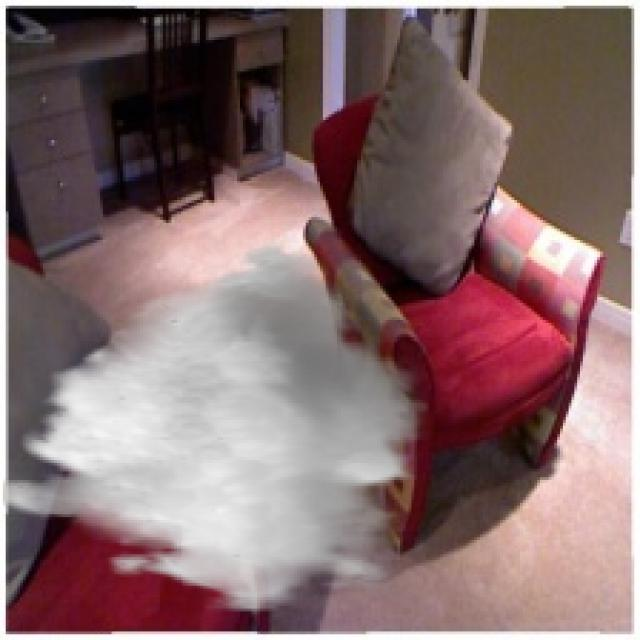smoke: (3, 237, 428, 612)
